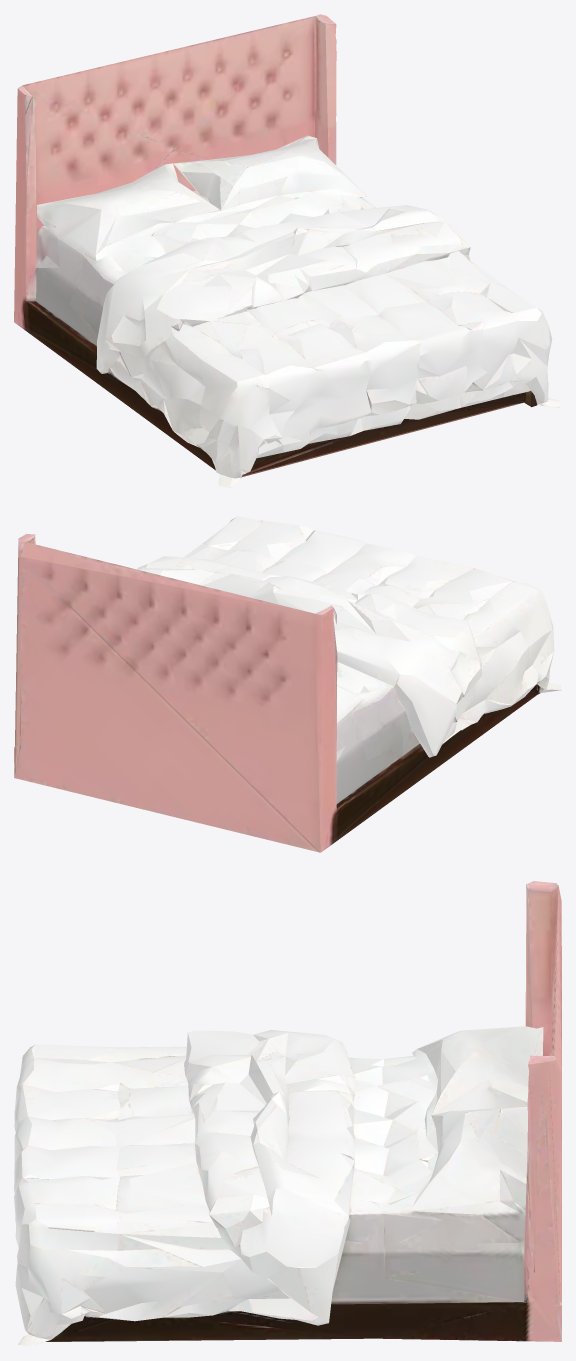
The model's file is bed.glb.
3 views of the same model, one above another, from view 1: azimuth 30°, elevation 25°; view 2: azimuth 150°, elevation 25°; view 3: azimuth 270°, elevation 25° (orthographic). The views are drawn at different scales.
Size of the model in its own units: 1.69 by 1.08 by 1.9.
1 material, 1 textured.
